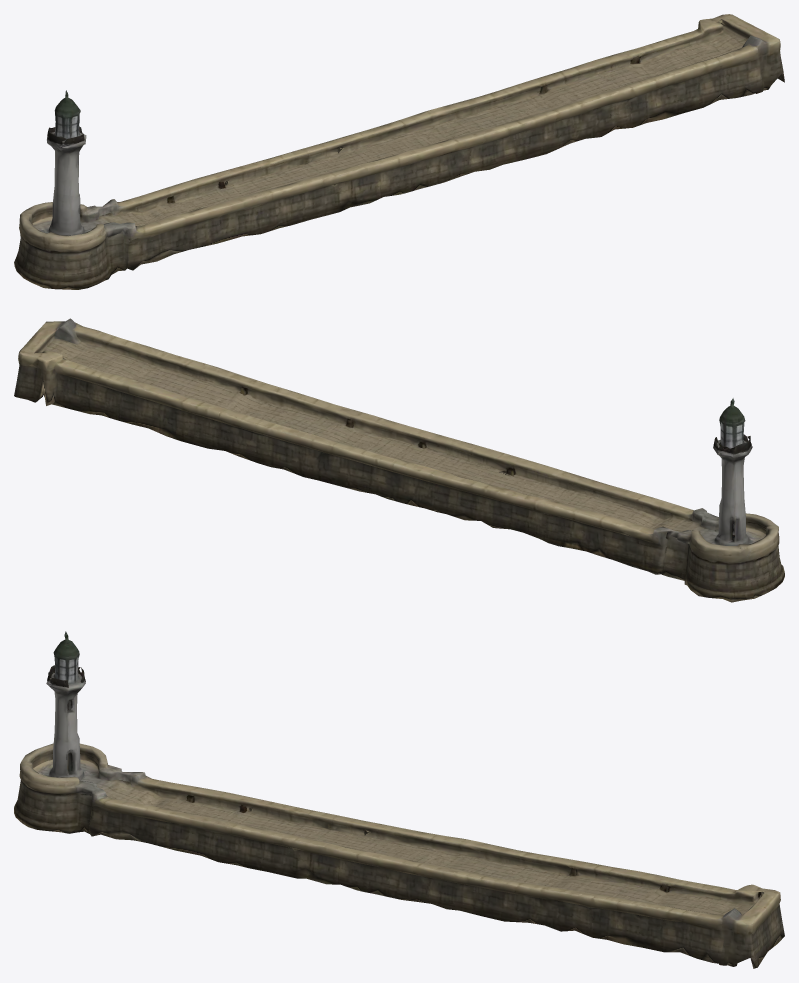
Rendered from switzerland-jet-d-eau.glb.
The picture shows the model from 3 angles, top to bottom: view 1: azimuth 30°, elevation 25°; view 2: azimuth 150°, elevation 25°; view 3: azimuth 330°, elevation 25°; orthographic projection.
Parts seen in each view (by area): view 1: world; view 2: world; view 3: world.
Part boxes in pixels (left/top/right/bottom): world: left=14, top=14, right=784, bottom=289; world: left=14, top=318, right=784, bottom=602; world: left=14, top=631, right=784, bottom=968.
Bounding box in the file's own units: 4.3 × 1 × 0.5237.
1 material, 1 textured.
